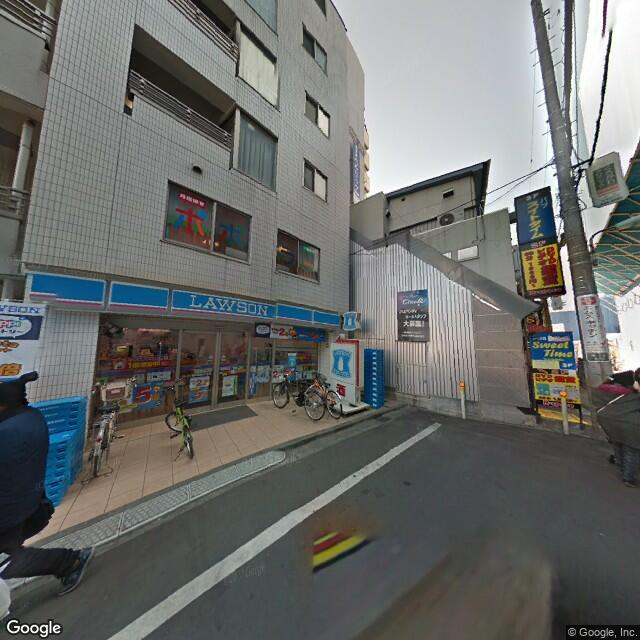lawson: (27, 266, 344, 336), (329, 345, 354, 382), (342, 308, 358, 332)
